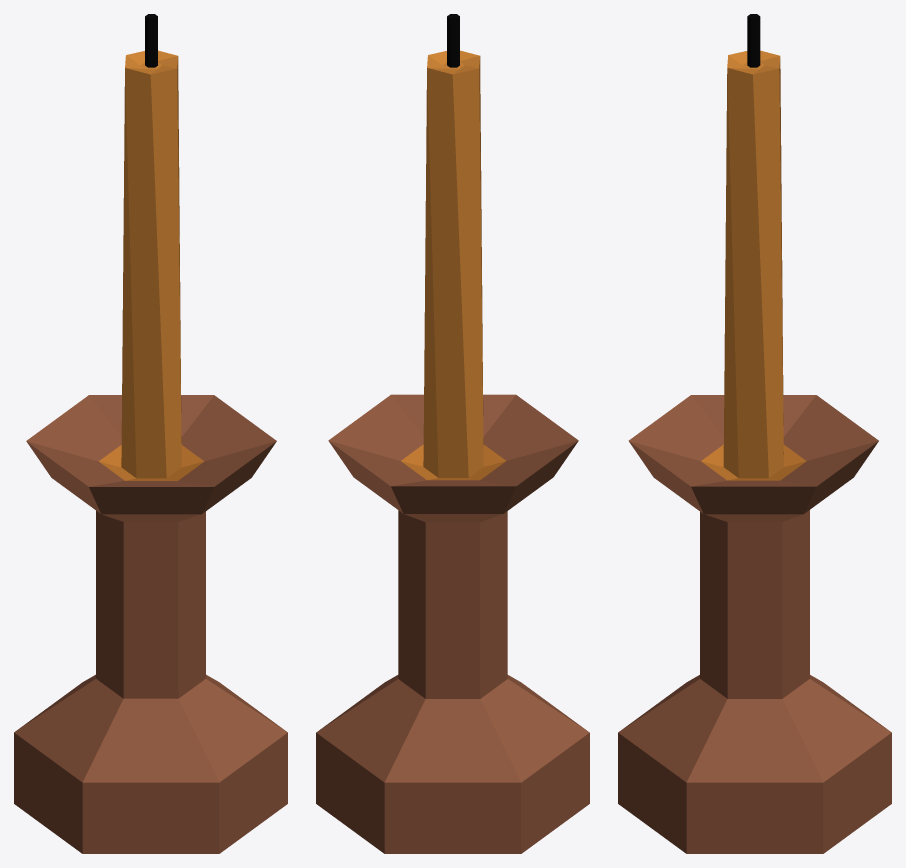
The model's file is candle.fbx.
The picture shows the model from 3 angles, left to right: view 1: azimuth 30°, elevation 25°; view 2: azimuth 150°, elevation 25°; view 3: azimuth 270°, elevation 25°; orthographic projection.
Visible parts, largest first — view 1: candle; view 2: candle; view 3: candle.
Boxes of the visible parts, <box> form: candle: <box>14,14,287,853</box>; candle: <box>316,14,589,853</box>; candle: <box>618,14,891,853</box>.
Bounding box in the file's own units: 26.71 × 97.85 × 30.84.
